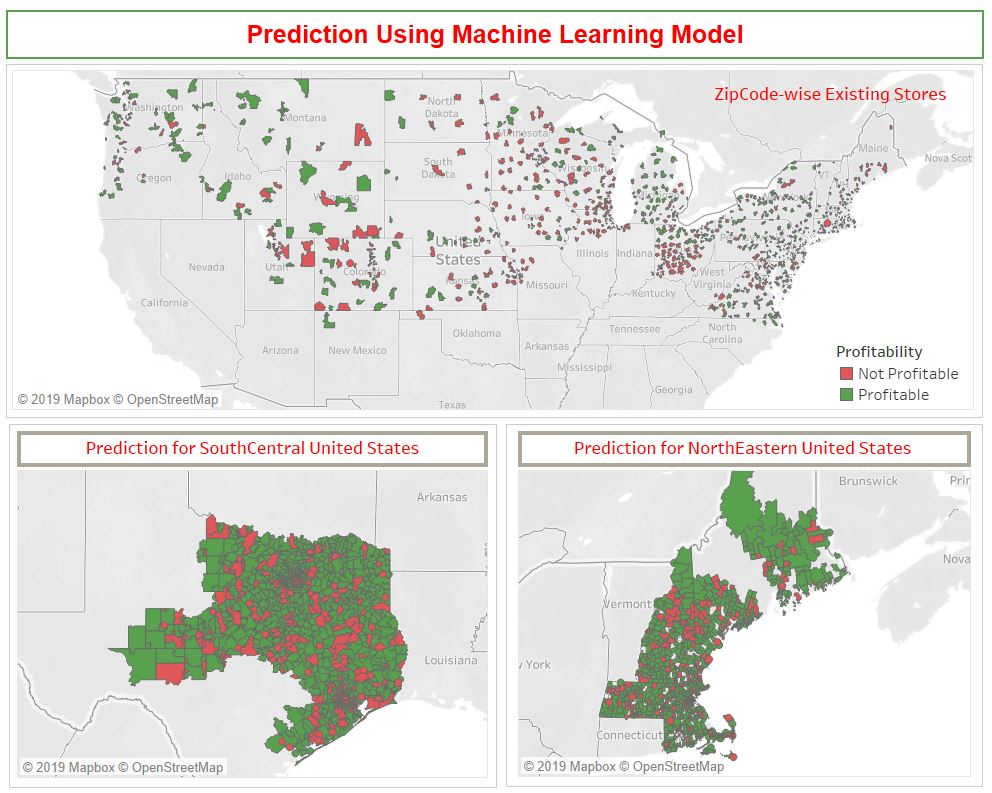

The page's visual inventory and layout, read from the dashboard file:
{"tool":"tableau","page":{"name":"MLProfPred","canvas":[1000,800],"ordinal":0},"visuals":[{"type":"blank","box":[10,6,976,76]},{"type":"text","box":[11,12,978,49]},{"type":"worksheet","title":"Current ZipCodes","mark":"Multipolygon","box":[17,72,962,340]},{"type":"text","box":[716,80,239,30]},{"type":"legend","title":"Current ZipCodes","param":"[federated.1bwxubc1017t6w1c2ogbl1biqwlu].[none:Profitability:nk]","box":[841,343,140,64]},{"type":"worksheet","title":"SouthCentral United States","mark":"Multipolygon","box":[22,433,471,347]},{"type":"worksheet","title":"NorthEastern United States","mark":"Multipolygon","box":[523,433,453,346]}]}

Visuals, with their boxes in screenshot pixels (x1, y1, x2, y2), scaled from the page's 1000x800 canvas onto the 992x793 screenshot:
blank: 10:6:978:81
text: 11:12:981:60
"Current ZipCodes" worksheet (Multipolygon marks): 17:71:971:408
text: 710:79:947:109
"Current ZipCodes" legend: 834:340:973:403
"SouthCentral United States" worksheet (Multipolygon marks): 22:429:489:773
"NorthEastern United States" worksheet (Multipolygon marks): 519:429:968:772
